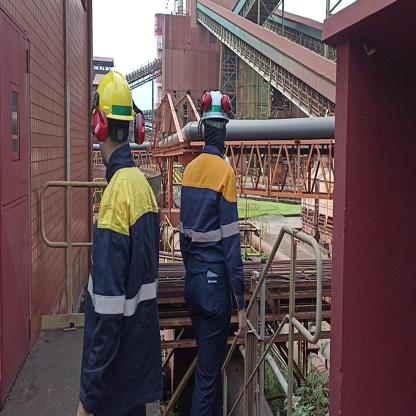Balaclava: (204, 120, 226, 152)
C_eletrica: (84, 180, 164, 403)
Capacete: (97, 68, 134, 118), (203, 88, 227, 119)
Operacional: (180, 151, 246, 298)
